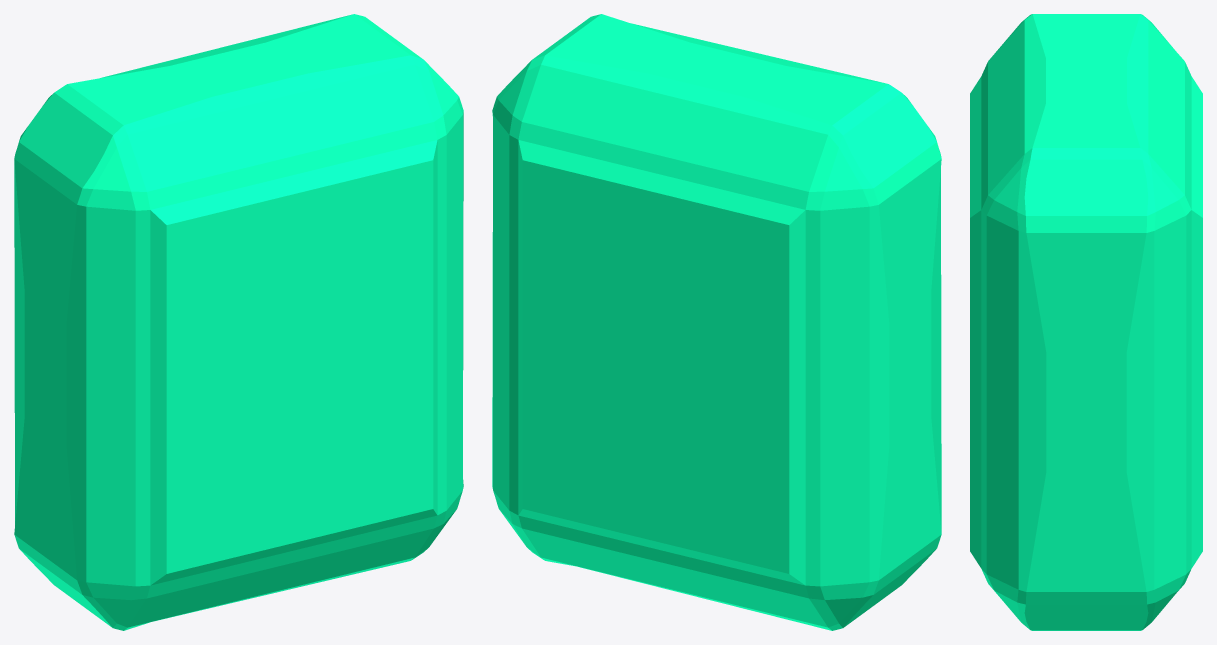
Rendered from emerald.glb.
3 renders of one model, left to right at view 1: azimuth 30°, elevation 25°; view 2: azimuth 150°, elevation 25°; view 3: azimuth 270°, elevation 25°, orthographic. The views are drawn at different scales.
Parts seen in each view (by area): view 1: Cube; view 2: Cube; view 3: Cube.
Part boxes in pixels (x1,y1,x2,y2): Cube: [14, 14, 463, 630]; Cube: [492, 14, 941, 630]; Cube: [970, 14, 1202, 630].
Size of the model in its own units: 0.08 by 0.1 by 0.0437.
